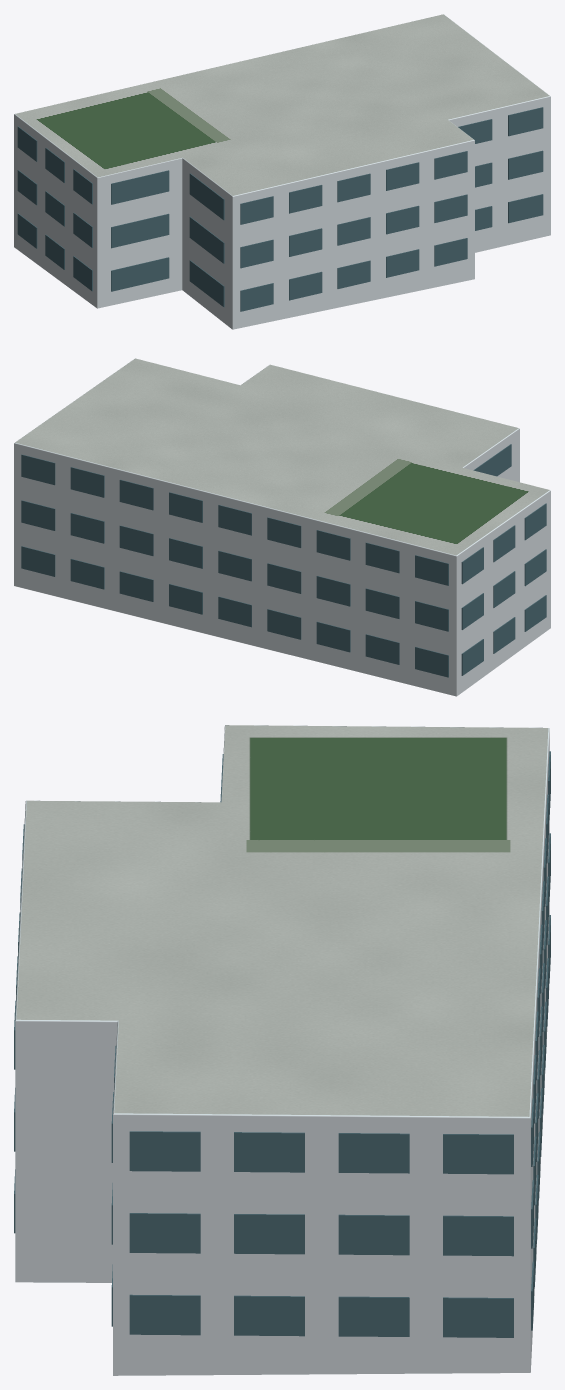
Rendered from intact.glb.
3 views of the same model, one above another, from view 1: azimuth 30°, elevation 25°; view 2: azimuth 150°, elevation 25°; view 3: azimuth 270°, elevation 25° (orthographic). The views are drawn at different scales.
Parts seen in each view (by area): view 1: SM_osm-468931893_Intact_00, SM_osm-468931893_Intact_01; view 2: SM_osm-468931893_Intact_00, SM_osm-468931893_Intact_01; view 3: SM_osm-468931893_Intact_00, SM_osm-468931893_Intact_01.
Part boxes in pixels (x1=…): SM_osm-468931893_Intact_00: x1=14, y1=14, x2=550, y2=329; SM_osm-468931893_Intact_01: x1=17, y1=107, x2=543, y2=311; SM_osm-468931893_Intact_00: x1=14, y1=358, x2=550, y2=696; SM_osm-468931893_Intact_01: x1=21, y1=444, x2=546, y2=677; SM_osm-468931893_Intact_00: x1=15, y1=725, x2=549, y2=1375; SM_osm-468931893_Intact_01: x1=14, y1=751, x2=550, y2=1337.
Size of the model in its own units: 2.2 by 0.6824 by 1.27.
4 materials, 1 textured.
